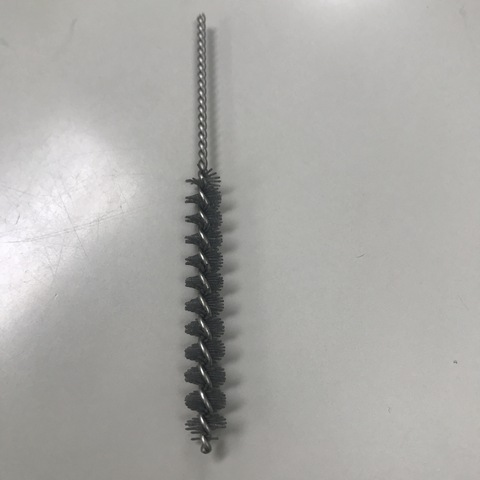Twist Brush-A: (183, 10, 230, 456)
